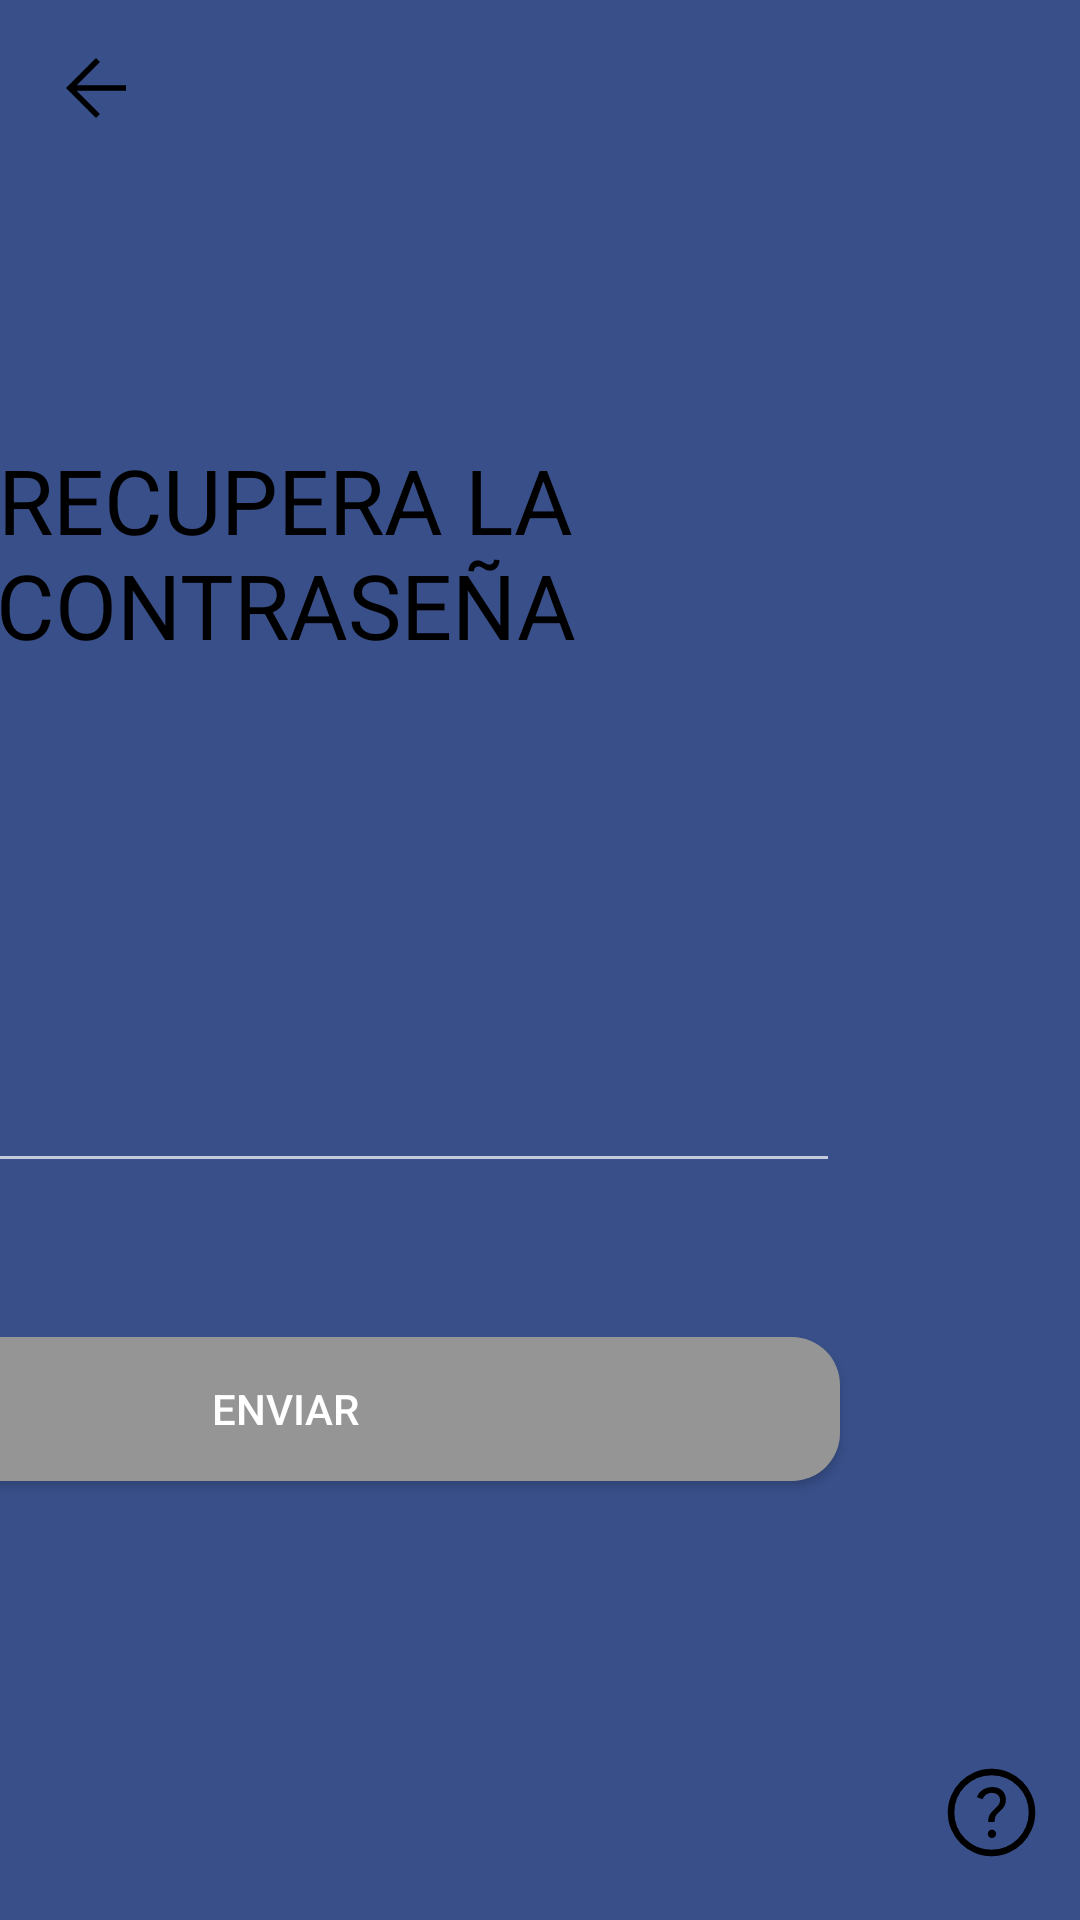

Named icons in this screenshot (1080w x 1920h) and their bounding boxes, [left=x1, top=y1, right=x2, bottom=y2]:
arrow back android: [left=66, top=58, right=126, bottom=118]
help: [left=947, top=1768, right=1036, bottom=1857]
